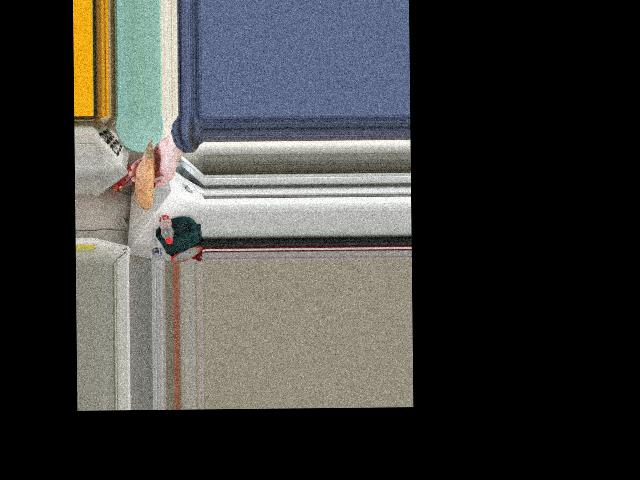sweet_potato: (138, 143, 157, 204)
